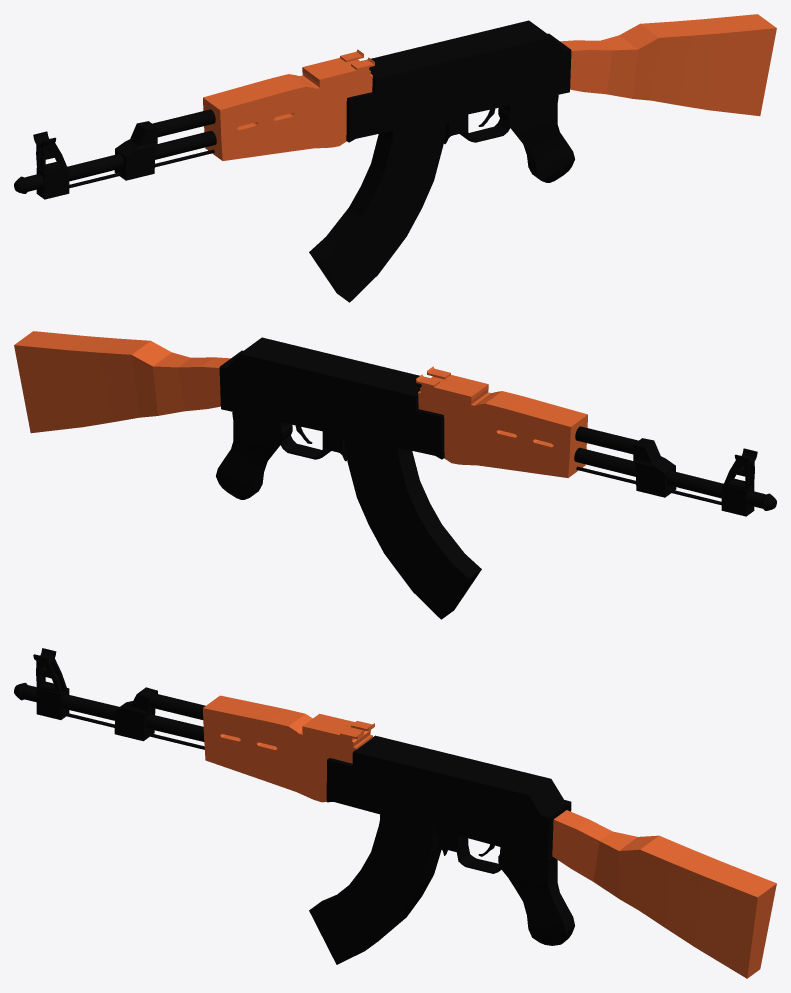
The picture shows the model from 3 angles, top to bottom: view 1: azimuth 30°, elevation 25°; view 2: azimuth 150°, elevation 25°; view 3: azimuth 330°, elevation 25°; orthographic projection.
Visible parts, largest first — view 1: Body, Stock, Magazine, Foregrip, Barrel, Grip; view 2: Body, Stock, Magazine, Foregrip, Barrel, Grip; view 3: Stock, Body, Foregrip, Magazine, Barrel, Grip.
Part boxes in pixels (x1,y1,x2,y2): Body: [346, 20, 571, 142]; Stock: [560, 14, 776, 116]; Magazine: [309, 119, 446, 302]; Foregrip: [203, 49, 374, 160]; Barrel: [14, 109, 216, 199]; Grip: [443, 95, 574, 182]; Body: [219, 337, 444, 459]; Stock: [14, 331, 230, 433]; Magazine: [344, 436, 481, 619]; Foregrip: [416, 366, 587, 477]; Barrel: [574, 426, 776, 516]; Grip: [216, 412, 346, 499]; Stock: [552, 810, 776, 978]; Body: [326, 735, 571, 859]; Foregrip: [203, 695, 374, 802]; Magazine: [309, 814, 441, 964]; Barrel: [14, 648, 205, 749]; Grip: [434, 829, 574, 945].
Size of the model in its own units: 848 by 255 by 43.74.
